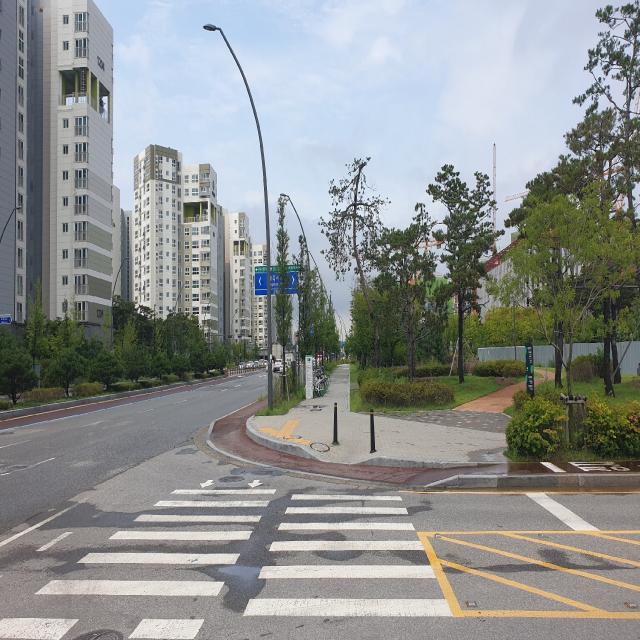횡단보도: (0, 477, 454, 640)
